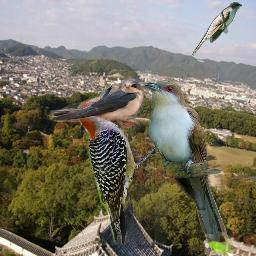Cuckoo: (143, 80, 233, 255), (191, 2, 242, 57)
Swallow: (50, 77, 144, 128)
Woodpecker: (72, 83, 167, 245)
